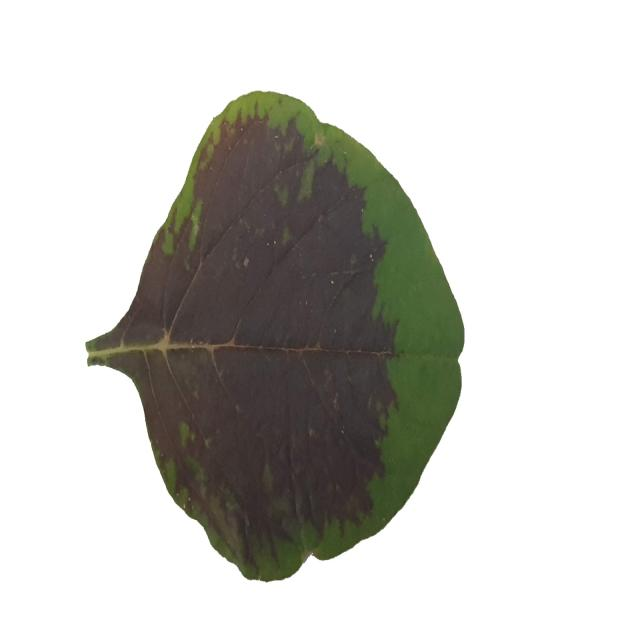Medicinal-Arive Dantu: (86, 87, 465, 583)
